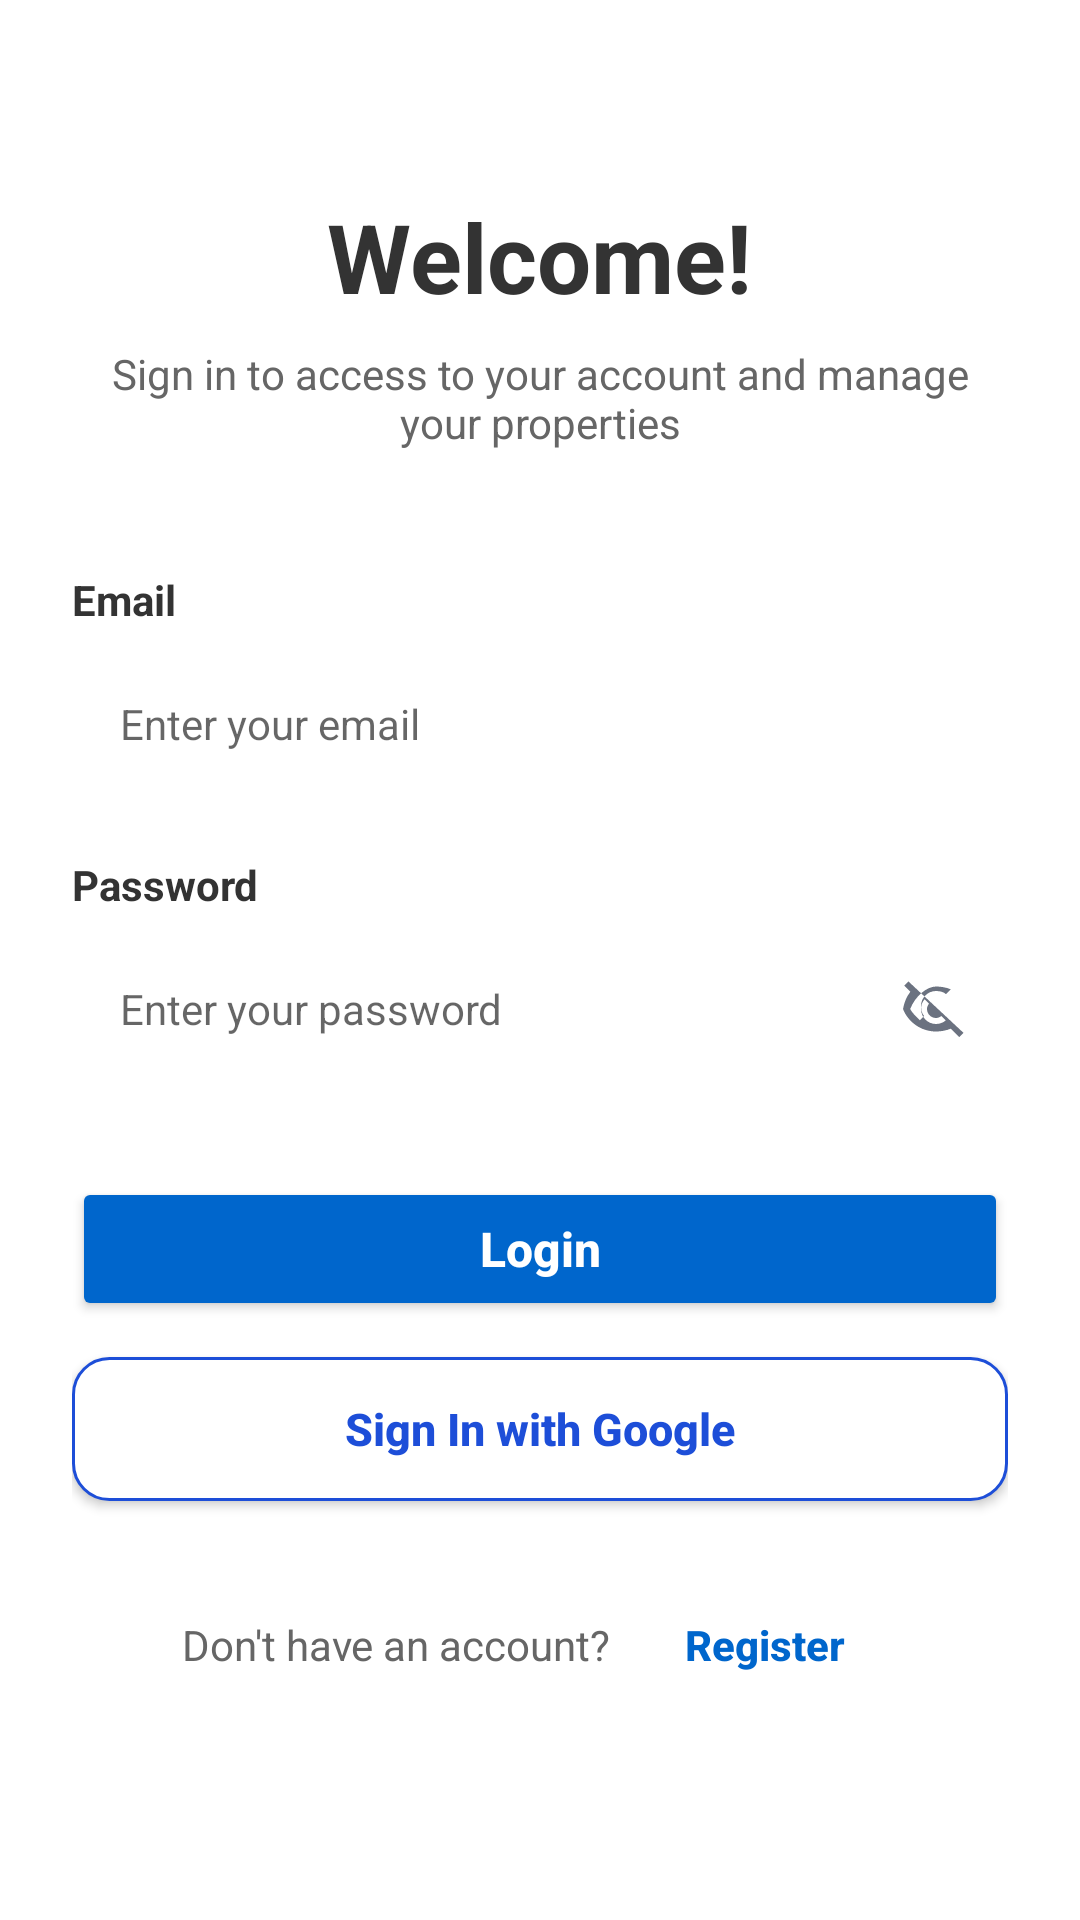

Icons on this 1080 × 1920 Android screen, each with its box as (x1, y1, x2, y2):
Show password: (903, 981, 964, 1037)
